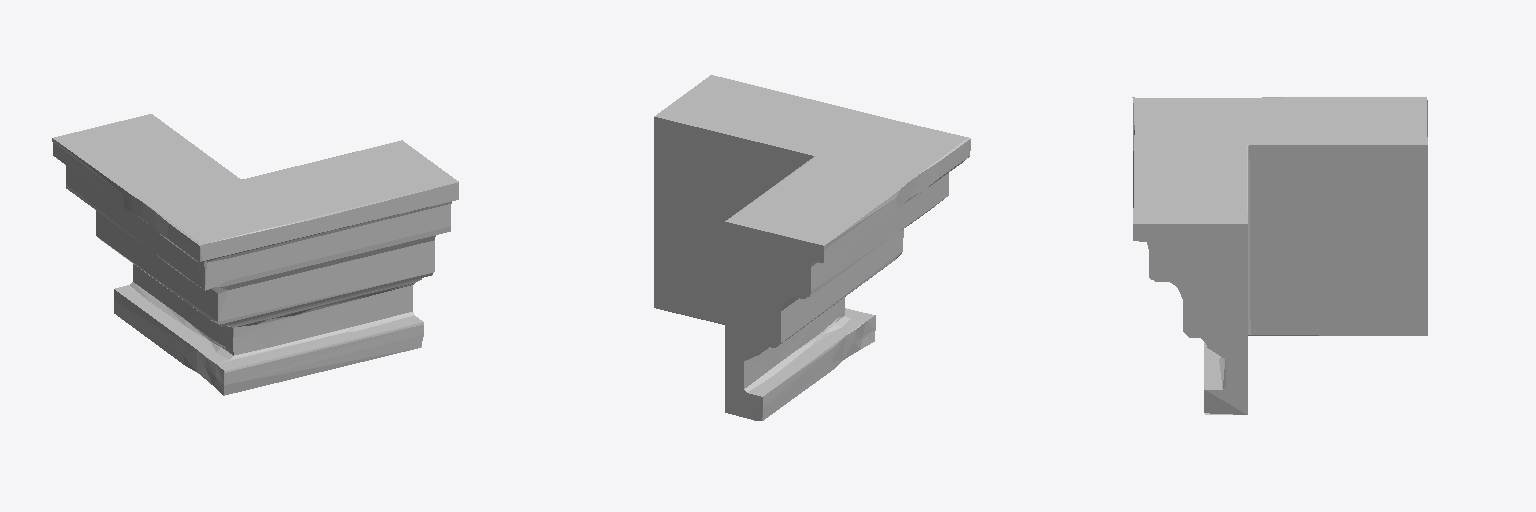
Rendered from trimcornerouter.obj.
3 renders of one model, left to right at view 1: azimuth 30°, elevation 25°; view 2: azimuth 150°, elevation 25°; view 3: azimuth 270°, elevation 25°, orthographic.
Visible parts, largest first — view 1: trimcornerouter; view 2: trimcornerouter; view 3: trimcornerouter.
Boxes of the visible parts, box(x1,y1,x2,y2) form: trimcornerouter: box(52, 114, 458, 395); trimcornerouter: box(654, 75, 970, 420); trimcornerouter: box(1132, 97, 1427, 414).
Size of the model in its own units: 2.89 by 2.03 by 2.84.